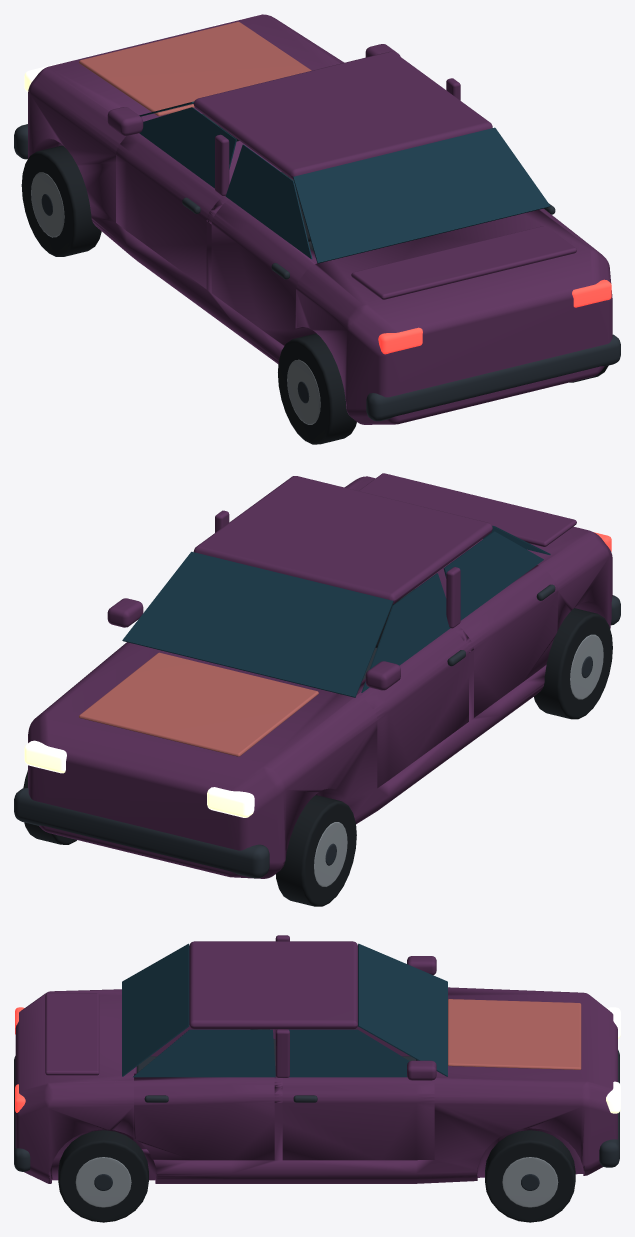
The model's file is car_sable_a.glb.
3 renders of one model, top to bottom at view 1: azimuth 30°, elevation 25°; view 2: azimuth 150°, elevation 25°; view 3: azimuth 270°, elevation 25°, orthographic. The views are drawn at different scales.
Parts seen in each view (by area): view 1: Body, Roof, RearGlass, HoodInset, DoorPanelFrontLeft, DoorPanelRearLeft, RearDeck, RearBumper, TireFrontLeft, DoorWindowRearLeft, TireRearLeft, DoorWindowFrontLeft (+6 smaller); view 2: Body, Windshield, Roof, HoodInset, DoorPanelFrontLeft, DoorPanelRearLeft, FrontBumper, RearDeck, TireFrontLeft, TireRearLeft, DoorWindowFrontLeft, DoorWindowRearLeft (+7 smaller); view 3: Body, Roof, DoorPanelFrontRight, DoorPanelRearRight, HoodInset, Windshield, RearGlass, DoorWindowRearRight, DoorWindowFrontRight, TireFrontRight, TireRearRight, RearDeck (+7 smaller).
Boxes of the visible parts, x1,y1,x2,y2 form: Body: (28,14,612,424); Roof: (193,51,492,179); RearGlass: (293,127,550,263); HoodInset: (79,21,311,116); DoorPanelFrontLeft: (116,133,223,289); DoorPanelRearLeft: (211,199,317,345); RearDeck: (351,226,576,299); RearBumper: (366,334,620,421); TireFrontLeft: (21,145,101,256); DoorWindowRearLeft: (225,144,312,259); TireRearLeft: (278,333,356,444); DoorWindowFrontLeft: (139,107,236,188); Body: (28,476,612,878); Windshield: (122,551,393,697); Roof: (193,476,492,603); HoodInset: (79,652,318,756); DoorPanelFrontLeft: (357,628,468,787); DoorPanelRearLeft: (457,565,558,717); FrontBumper: (14,788,269,878); RearDeck: (359,473,576,546); TireFrontLeft: (275,795,356,906); TireRearLeft: (534,608,612,719); DoorWindowFrontLeft: (361,573,450,692); DoorWindowRearLeft: (443,531,543,620); Body: (15,987,617,1183); Roof: (189,941,357,1029); DoorPanelFrontRight: (282,1077,434,1160); DoorPanelRearRight: (134,1073,274,1160); HoodInset: (448,999,581,1069); Windshield: (358,943,447,1076); RearGlass: (122,943,189,1076); DoorWindowRearRight: (133,1029,275,1077); DoorWindowFrontRight: (289,1029,409,1077); TireFrontRight: (485,1130,575,1222); TireRearRight: (58,1130,148,1222); RearDeck: (45,993,99,1075).
Size of the model in its own units: 1.93 by 1.44 by 4.28.
